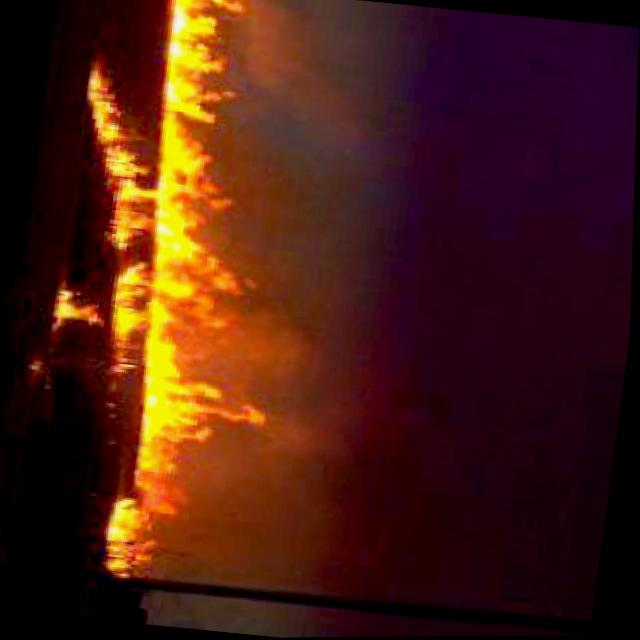Fire: (3, 0, 331, 584)
